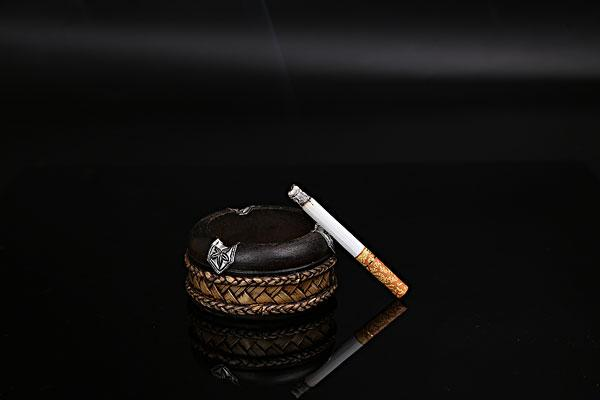smoke: (284, 178, 411, 298), (286, 301, 413, 395)
